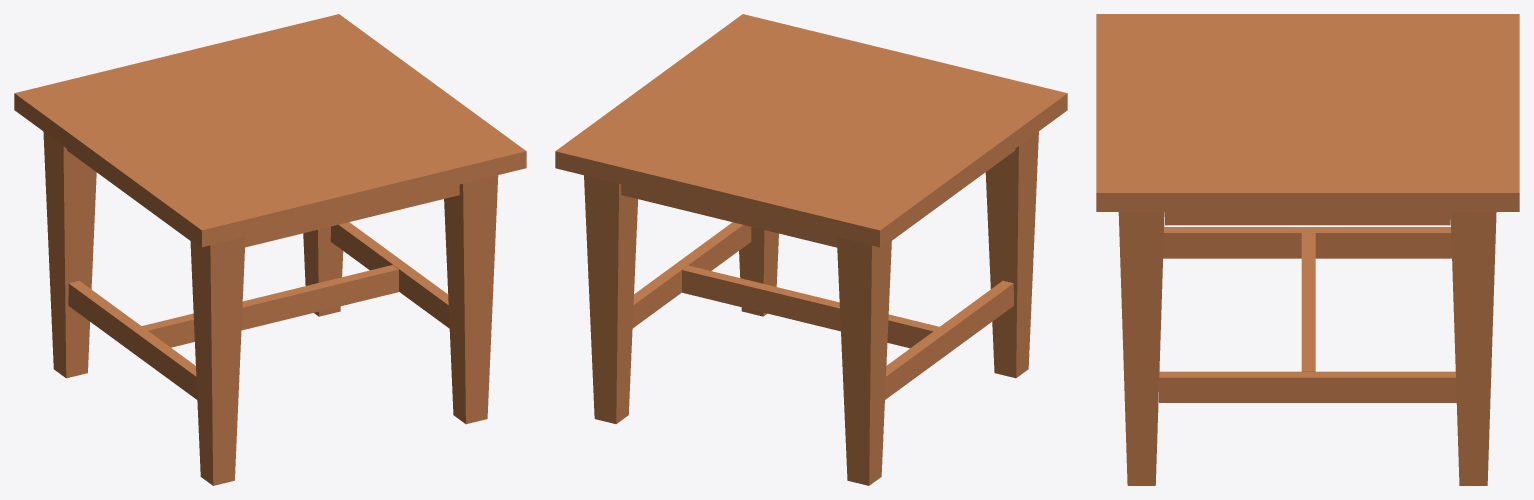
Rendered from table.fbx.
The picture shows the model from 3 angles, left to right: view 1: azimuth 30°, elevation 25°; view 2: azimuth 150°, elevation 25°; view 3: azimuth 270°, elevation 25°; orthographic projection. The views are drawn at different scales.
Visible parts, largest first — view 1: table; view 2: table; view 3: table.
Boxes of the visible parts, bbox=[...] form: table: bbox=[14, 14, 526, 485]; table: bbox=[555, 14, 1067, 485]; table: bbox=[1096, 14, 1519, 485].
Size of the model in its own units: 120 by 96 by 120.
1 material, 1 textured.
